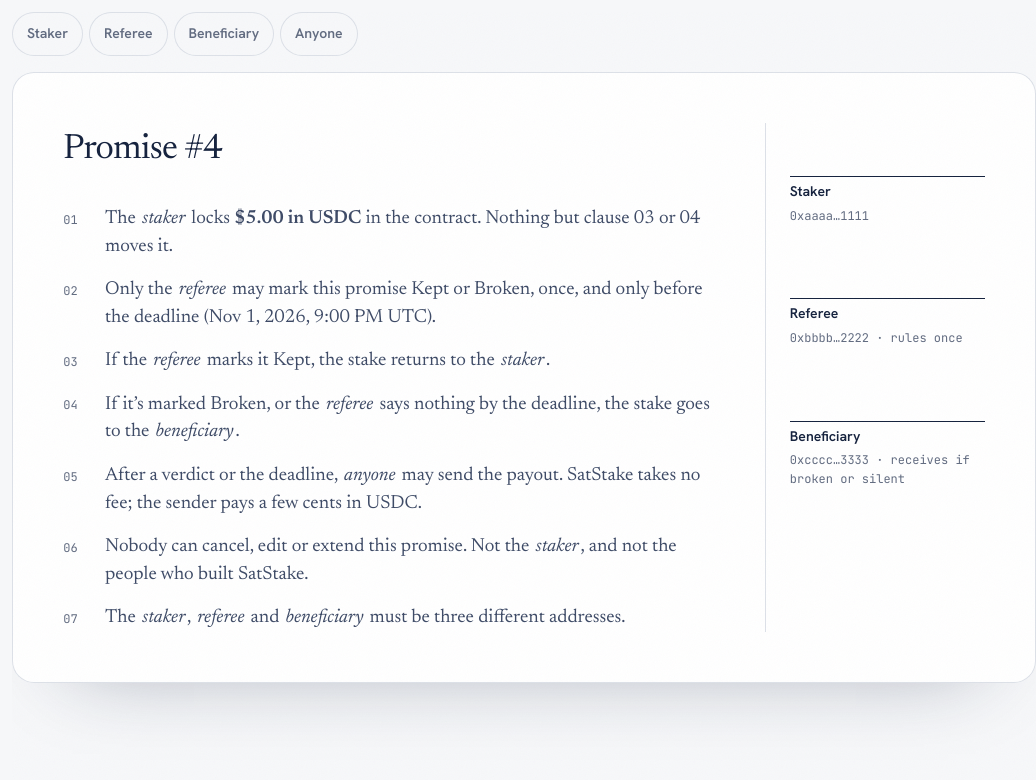
Test: LLR-FE-040 Read as lights the lines that apply to a role › marks exactly the lines of staker as the ones that apply
The width and height of the screenshot is (1036, 780).
What coordinates should you click on to do the following:
click the button "Staker"
I would click on:
 (48, 34)
Its box is left=12, top=12, right=83, bottom=56.
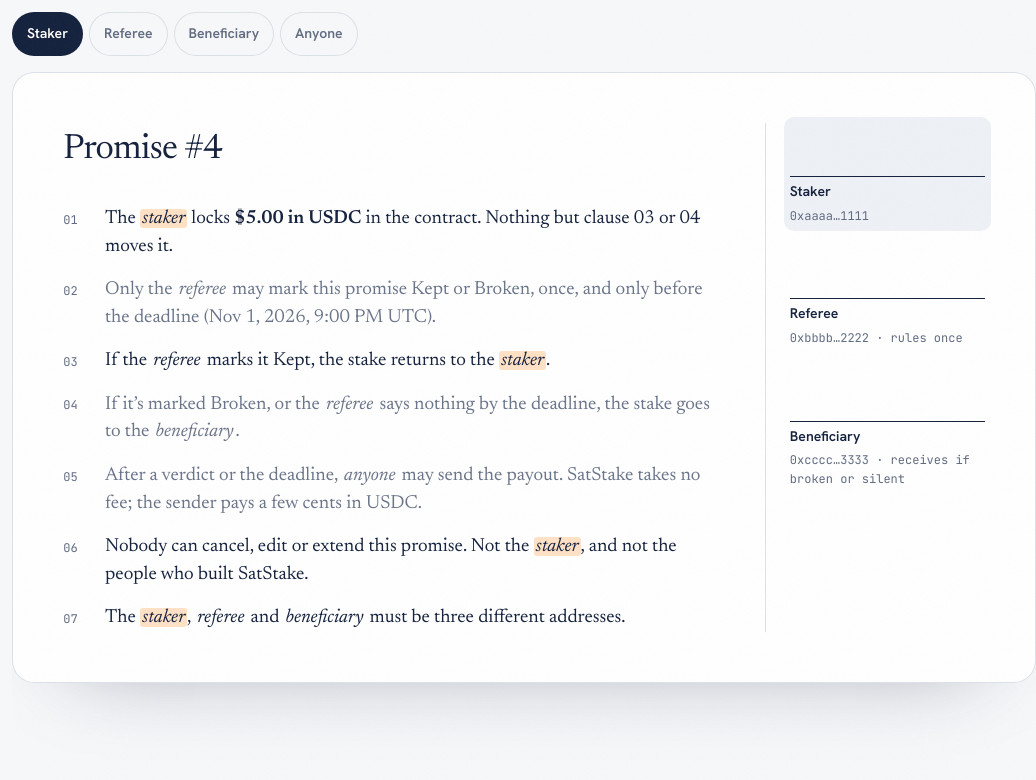
Expected: the element with class "focus" is shown
